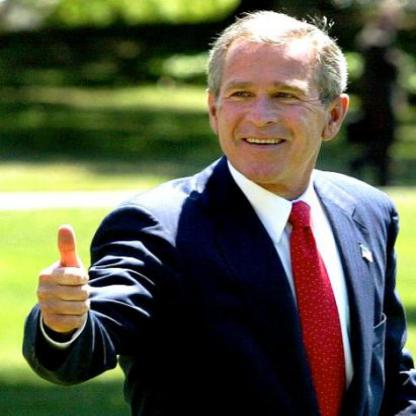face: (215, 17, 332, 187)
